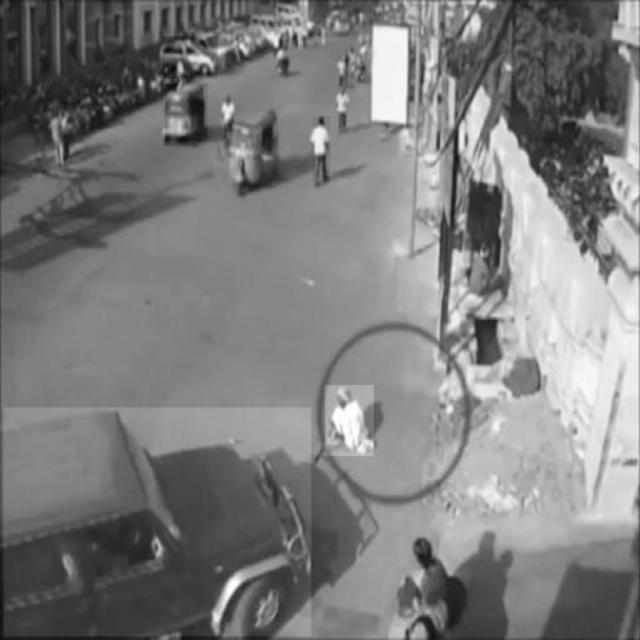person: (325, 386, 373, 457), (313, 117, 330, 185)
vehicle: (4, 408, 311, 636), (231, 107, 281, 190), (166, 85, 208, 142), (163, 37, 218, 79)
